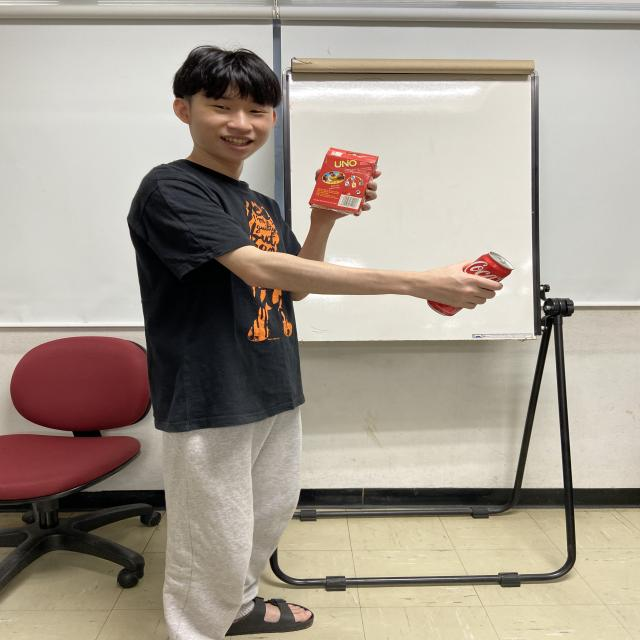can: (428, 251, 514, 318)
